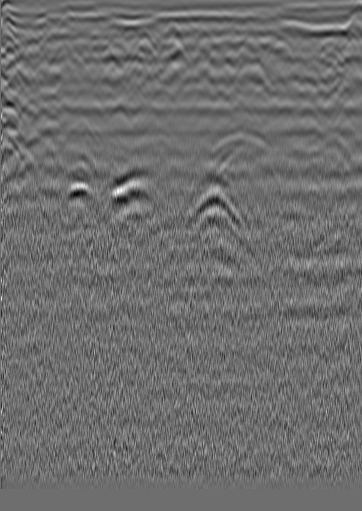가스: (105, 168, 154, 203)
상수: (316, 40, 336, 60)
우수: (164, 22, 184, 42)
